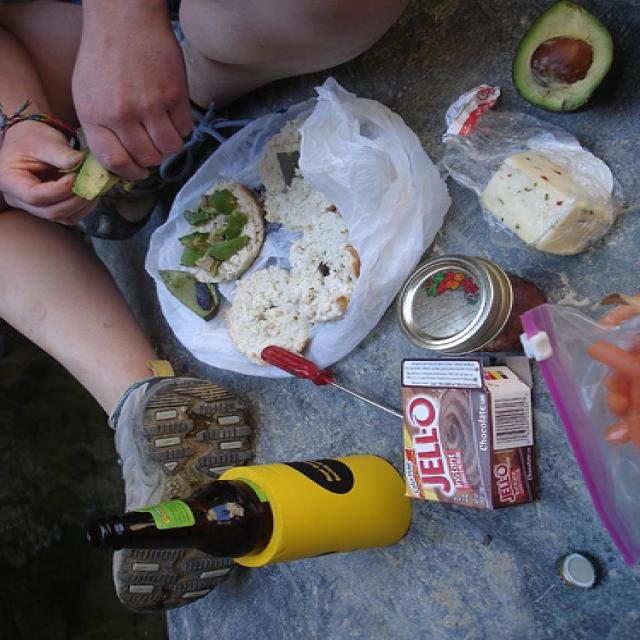screw_driver: (262, 345, 403, 417)
